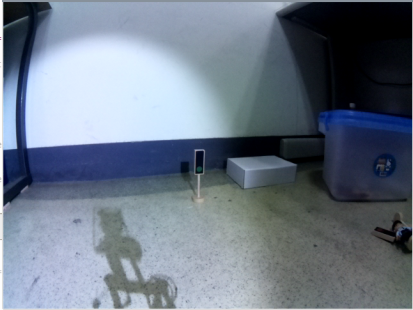Green: (192, 149, 207, 178)
